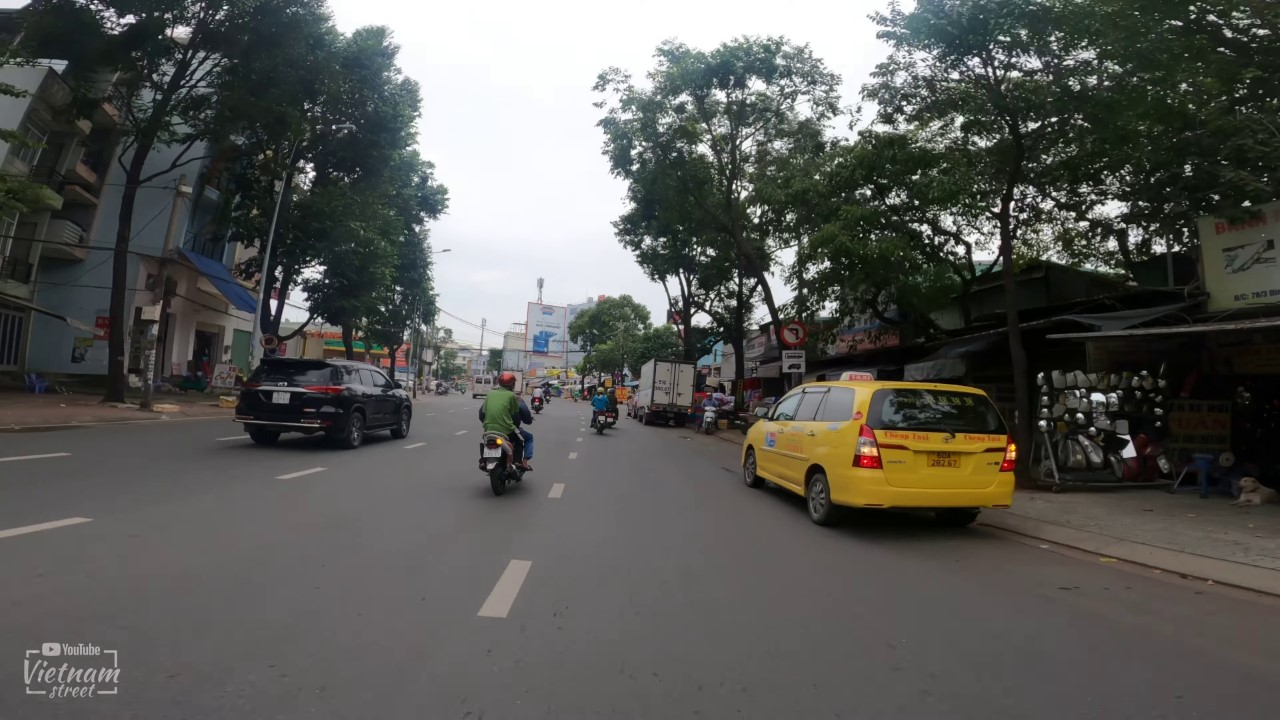cam_re_trai: (778, 319, 807, 348)
